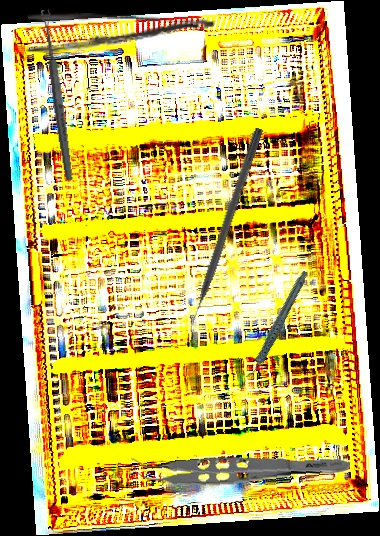Dressing Forceps: (26, 10, 216, 60)
Handpiece: (225, 269, 327, 380)
Pusher: (182, 126, 265, 334)
Surgical Spoon: (40, 9, 75, 181)
Tissue Forceps: (130, 439, 352, 492)
